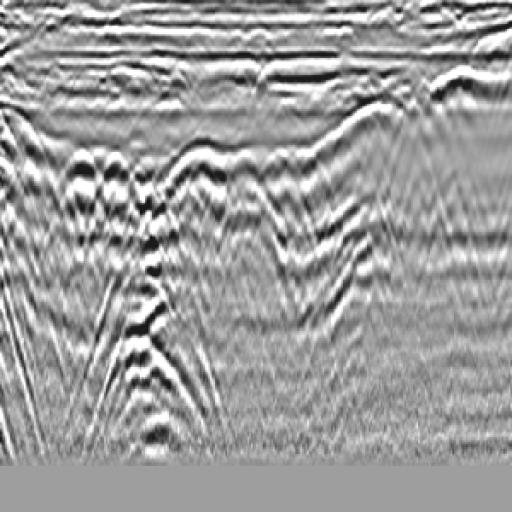metalic: (203, 143, 320, 292)
